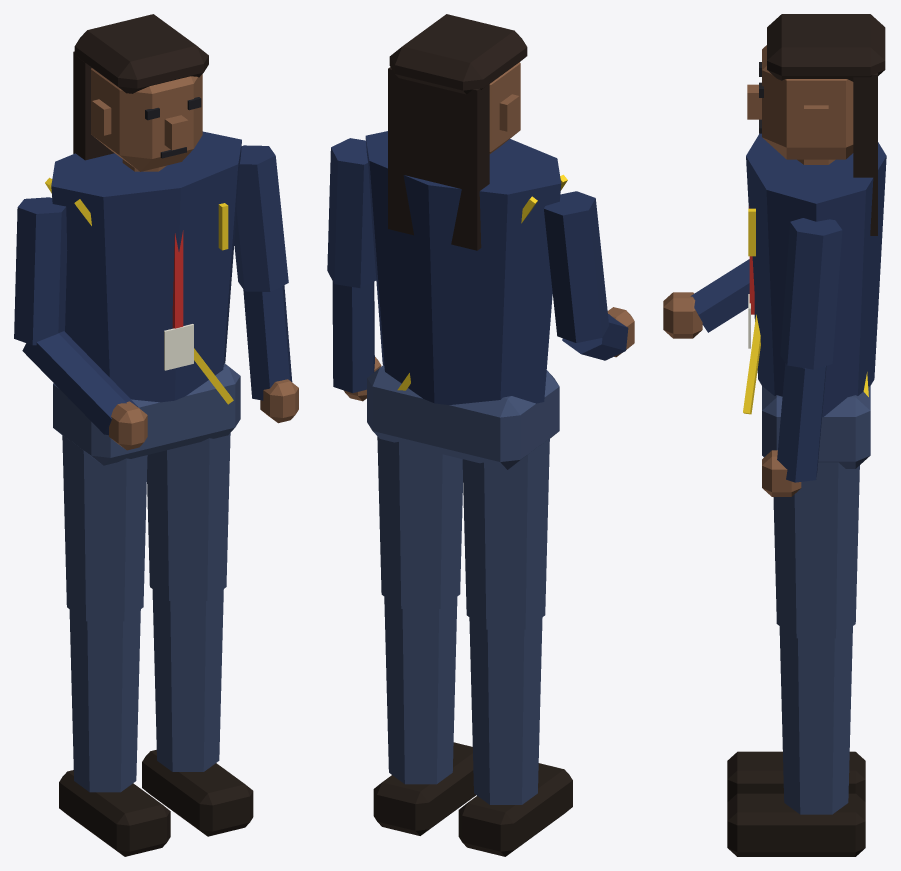
File: person.dana.glb
The picture shows the model from 3 angles, left to right: view 1: azimuth 30°, elevation 25°; view 2: azimuth 150°, elevation 25°; view 3: azimuth 270°, elevation 25°; orthographic projection. The views are drawn at different scales.
Visible parts, largest first — view 1: torso, thigh-1, thigh1, shin-1, shin1, hips, upper-1, hair, head, upper1, shoe-1, shoe1 (+10 smaller); view 2: torso, thigh-1, thigh1, hair-back, shin-1, shin1, hips, upper-1, hair, upper1, shoe-1, shoe1 (+4 smaller); view 3: torso, thigh1, shin1, upper1, shoe1, hair, head, fore1, hips, shoe-1, hair-back, fore-1 (+5 smaller).
Boxes of the visible parts, x1,y1,x2,y2 form: torso: [51, 131, 241, 402]; thigh-1: [62, 435, 147, 621]; thigh1: [147, 433, 230, 600]; shin-1: [69, 609, 140, 792]; shin1: [152, 589, 223, 771]; hips: [53, 363, 240, 465]; upper-1: [14, 197, 67, 345]; hair: [74, 14, 208, 93]; head: [91, 68, 202, 171]; upper1: [234, 145, 288, 291]; shoe-1: [59, 770, 170, 856]; shoe1: [142, 750, 253, 836]; torso: [365, 131, 561, 404]; thigh-1: [462, 438, 549, 629]; thigh1: [377, 436, 462, 608]; hair-back: [388, 67, 489, 250]; shin-1: [469, 617, 542, 804]; shin1: [384, 597, 457, 784]; hips: [367, 365, 559, 469]; upper-1: [544, 191, 608, 342]; hair: [389, 14, 527, 94]; upper1: [327, 138, 376, 288]; shoe-1: [458, 763, 572, 856]; shoe1: [373, 742, 475, 835]; torso: [746, 133, 886, 417]; thigh1: [773, 462, 859, 638]; shin1: [779, 626, 852, 814]; upper1: [780, 218, 842, 369]; shoe1: [727, 793, 865, 856]; hair: [767, 14, 885, 81]; head: [762, 45, 853, 159]; fore1: [777, 363, 826, 482]; hips: [762, 386, 870, 468]; shoe-1: [727, 751, 865, 801]; hair-back: [853, 73, 877, 235]; fore-1: [690, 259, 749, 332].
Bounding box in the file's own units: 0.6504 × 1.78 × 0.4526.
